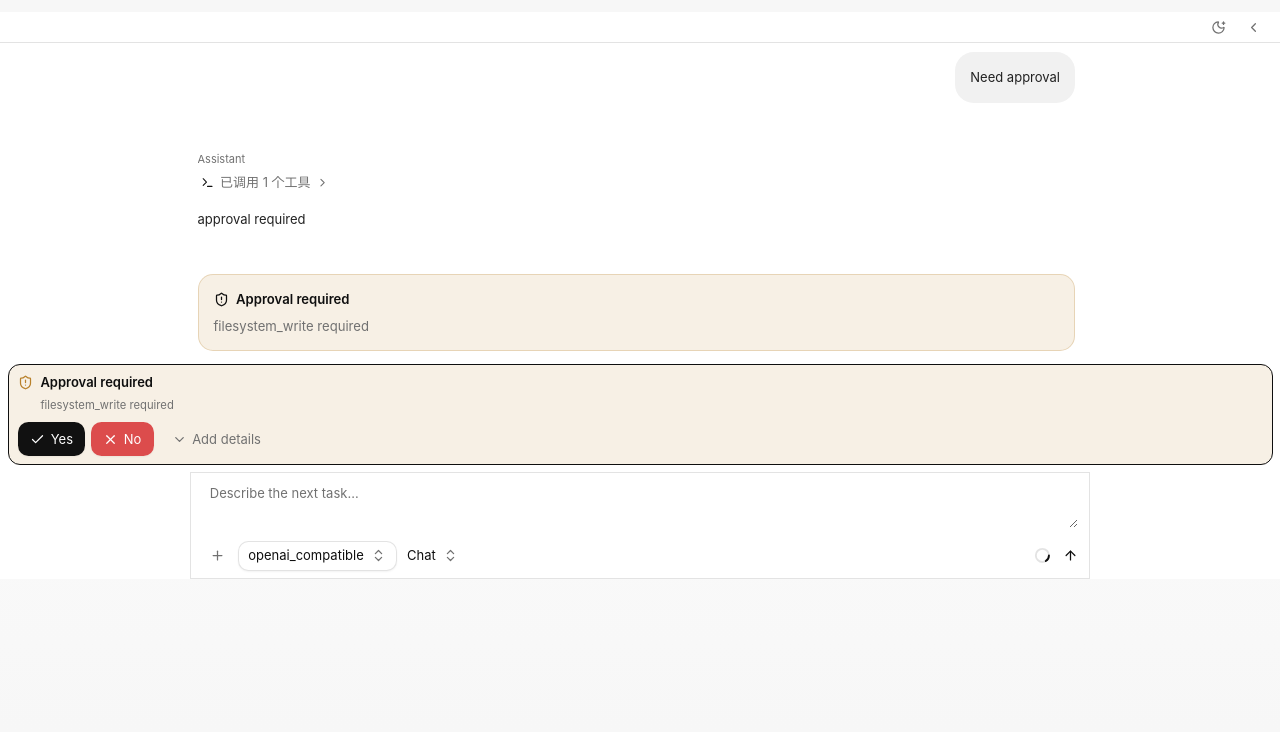
Test case: WorkspaceShell › prefers thread titles in the rail and avoids rendering duplicate raw tool-result transcript bubbles
This screenshot has width=1280, height=732.
Step 1. Click the button "已调用 1 个工具" → (265, 183), box [198,172,333,194]
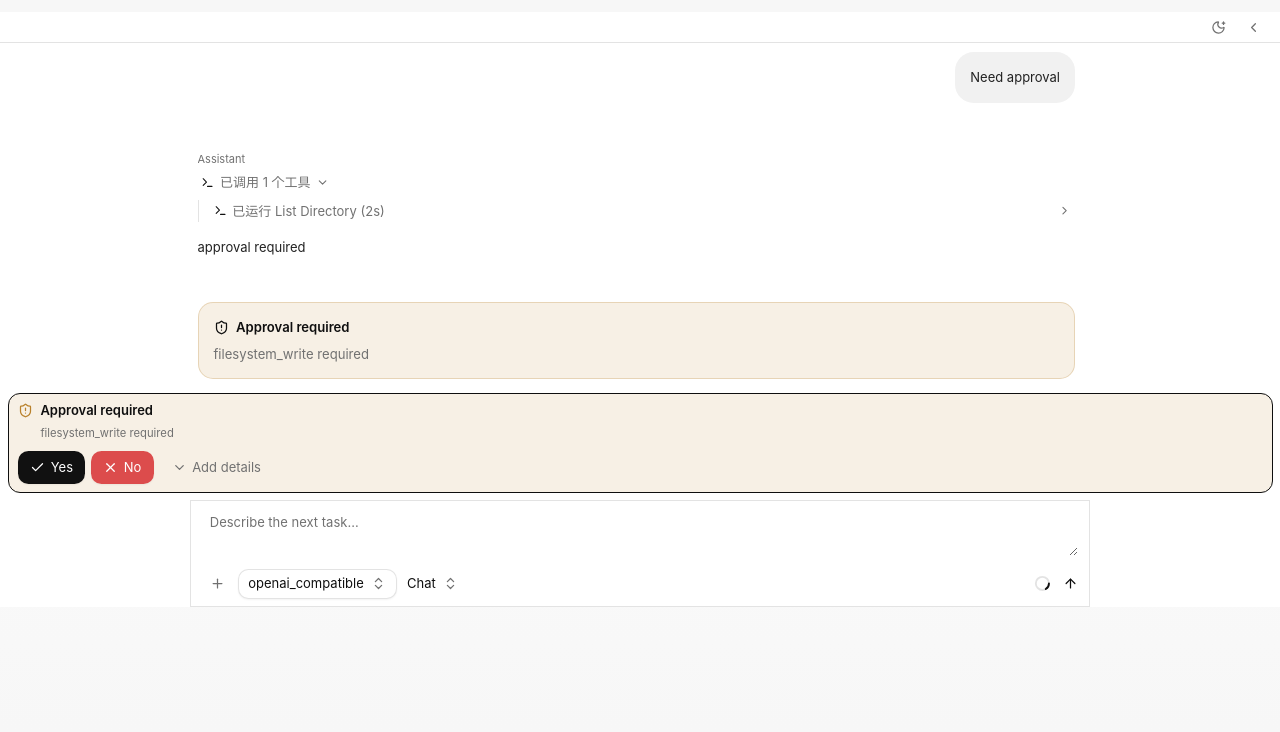
Result: the button "已运行 List Directory(2s)" is shown at [210,200,1075,222]
